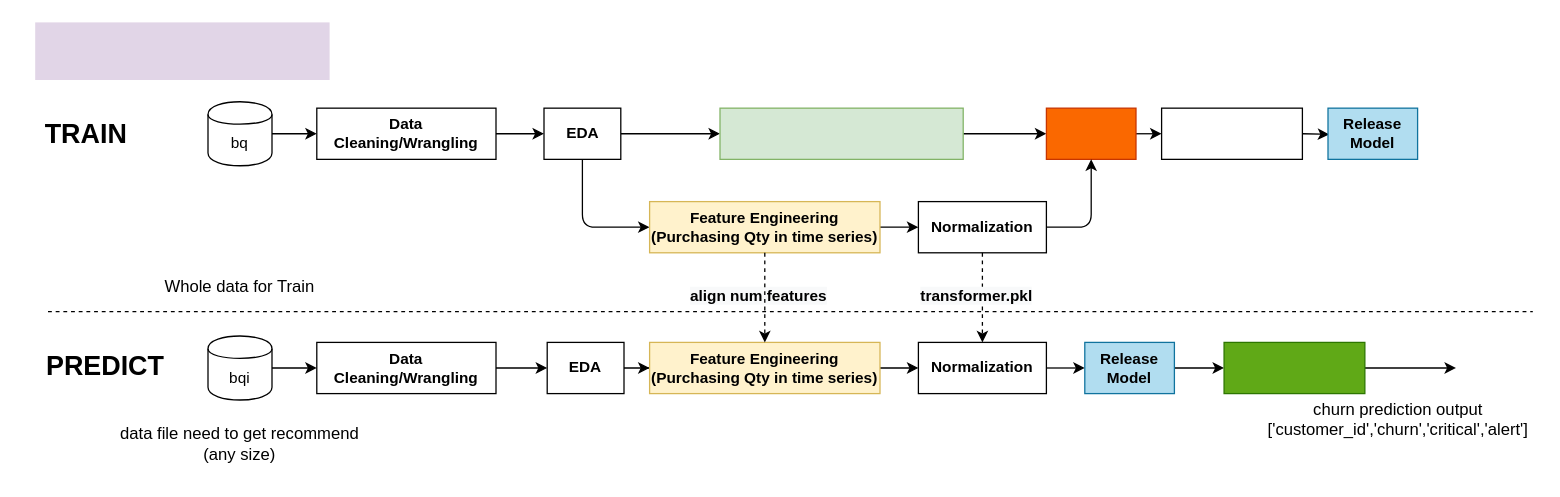
Some shapes in this 1560 by 497 pixel diagram are drawn without their labels. Here are the shapes that lost their labels. From the top down, the centre of each, then its label:
At point (182, 50): "Churn Notification".
At point (841, 133): "Data Labeling (churn/critical/alert)".
At point (1090, 133): "LSTM Train".
At point (1231, 133): "Evaluation (threshold choice)".
At point (1294, 367): "Prediction Result".
